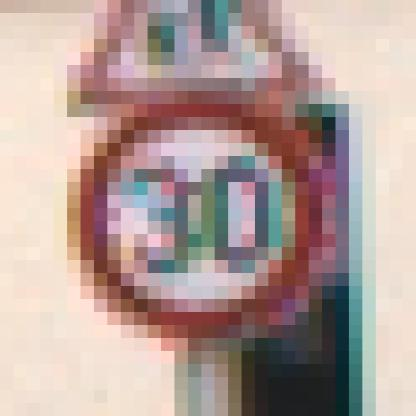Speed Limit 30: (82, 103, 320, 332)
